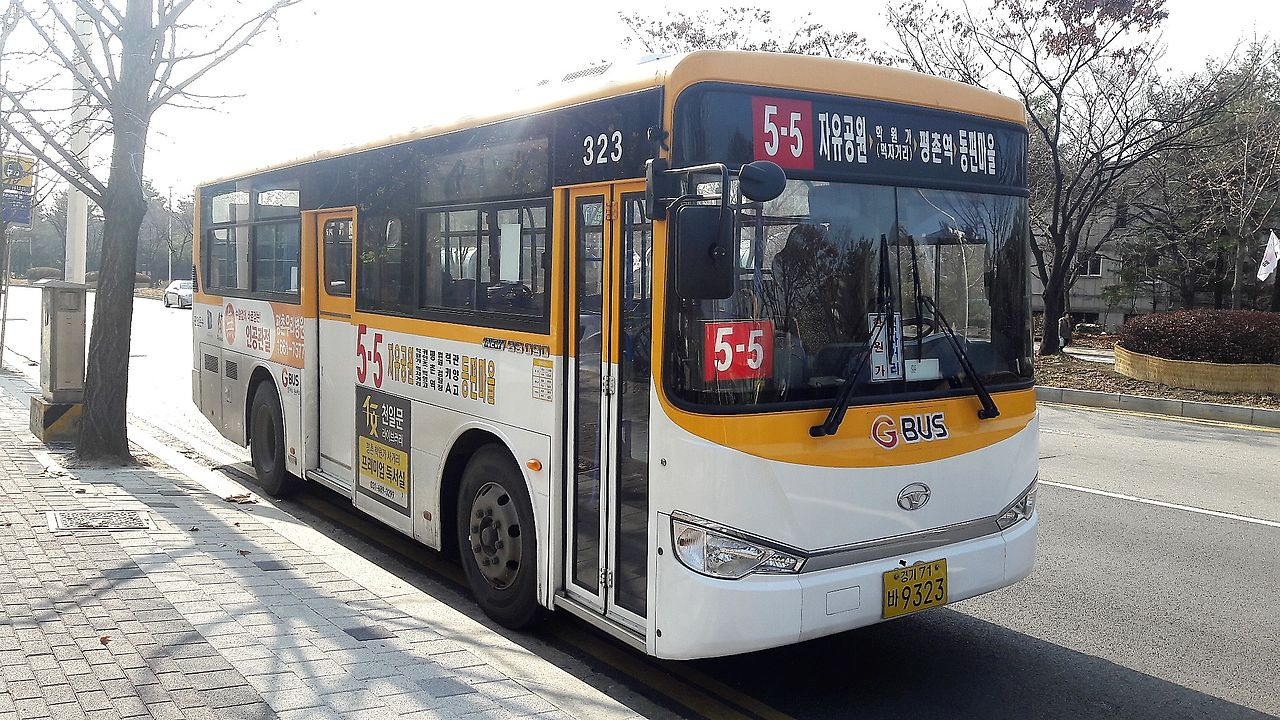bnum: (757, 96, 810, 166)
